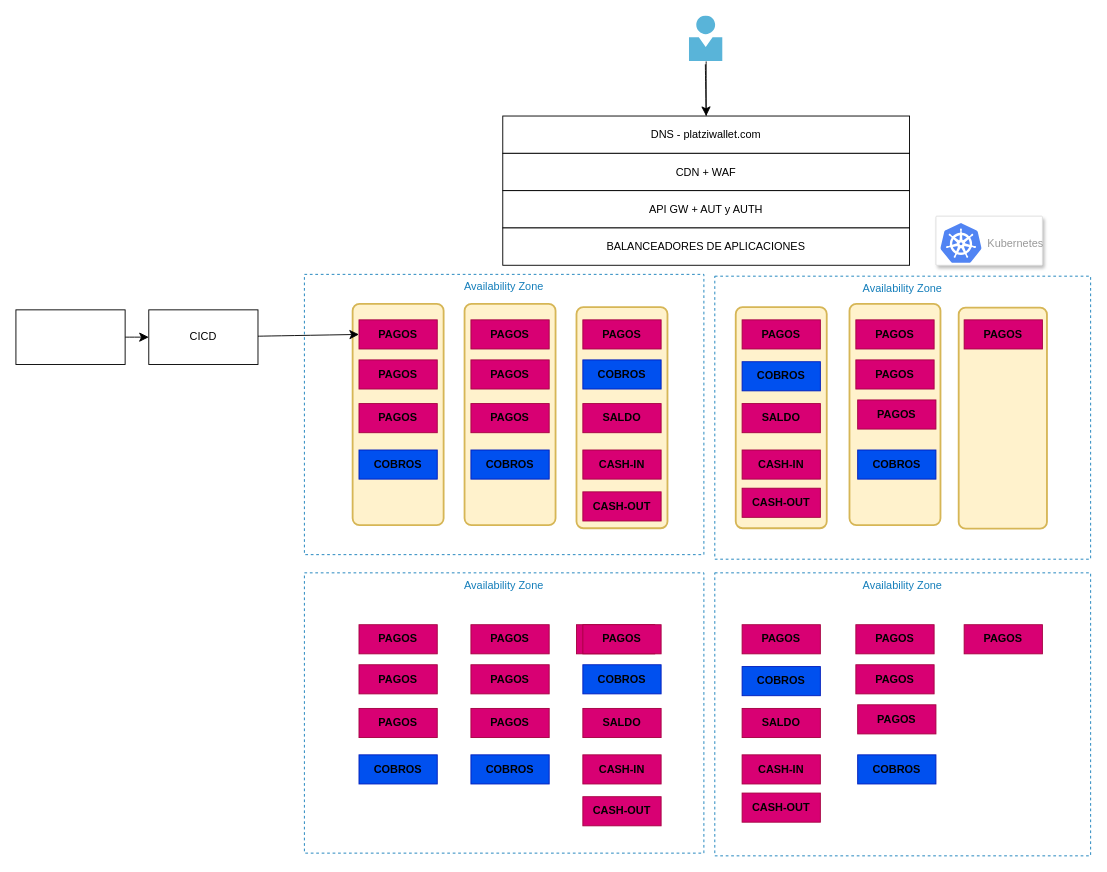
The diagram is 1107 pixels wide and 872 high, and some of its shapes have lost their labels. The centre of each missing label's shape, as x and y in pixels:
"100K" goes at point (706, 38).
"REPO" goes at point (70, 336).
